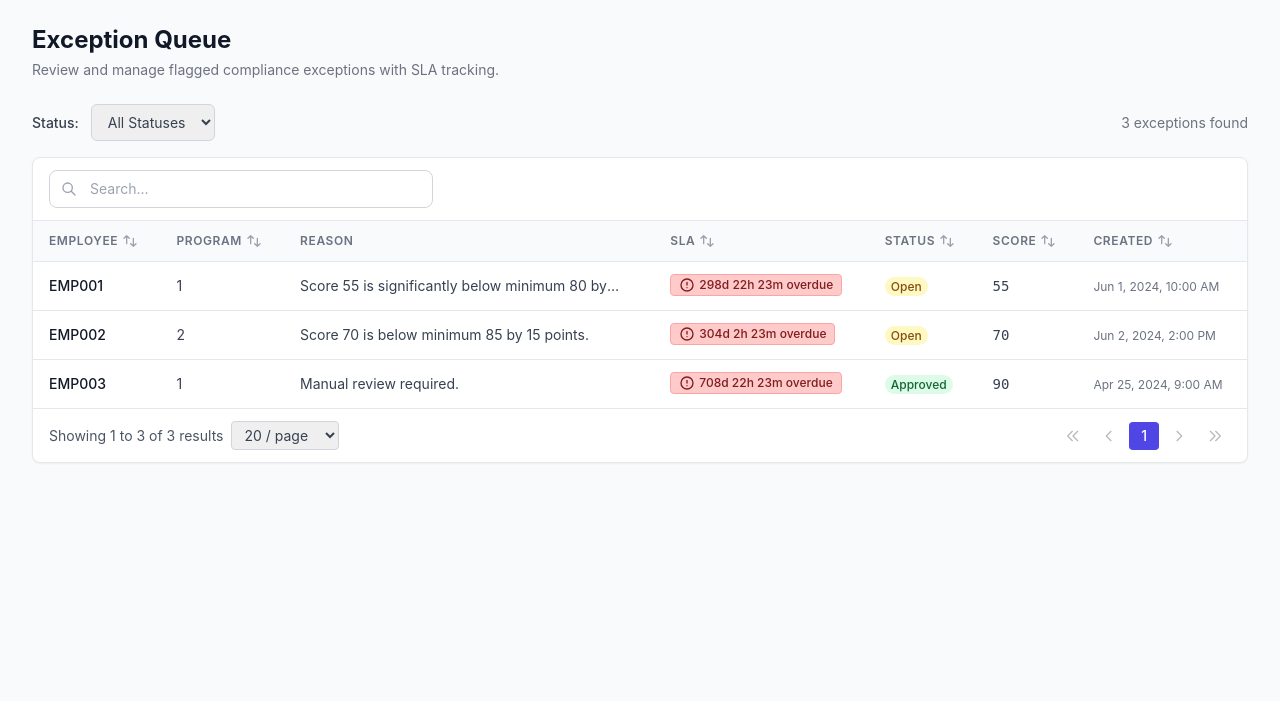
Scenario: ExceptionQueuePage › shows validation error when override is submitted without justification
Click the text "EMP001".
click(76, 286)  # box [49, 277, 103, 294]
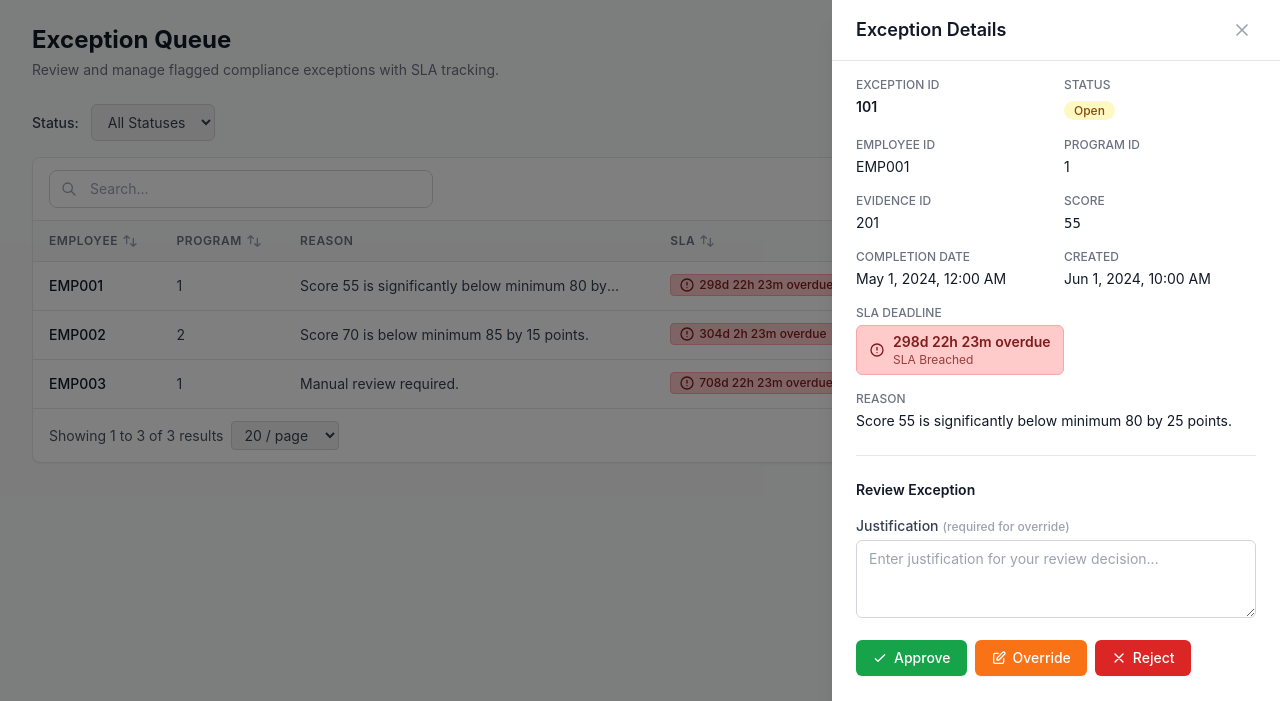
Expected: the heading "Exception Details" is shown, [856, 16, 1006, 44]
Click the button "Override".
click(1031, 658)  # box [975, 640, 1087, 676]
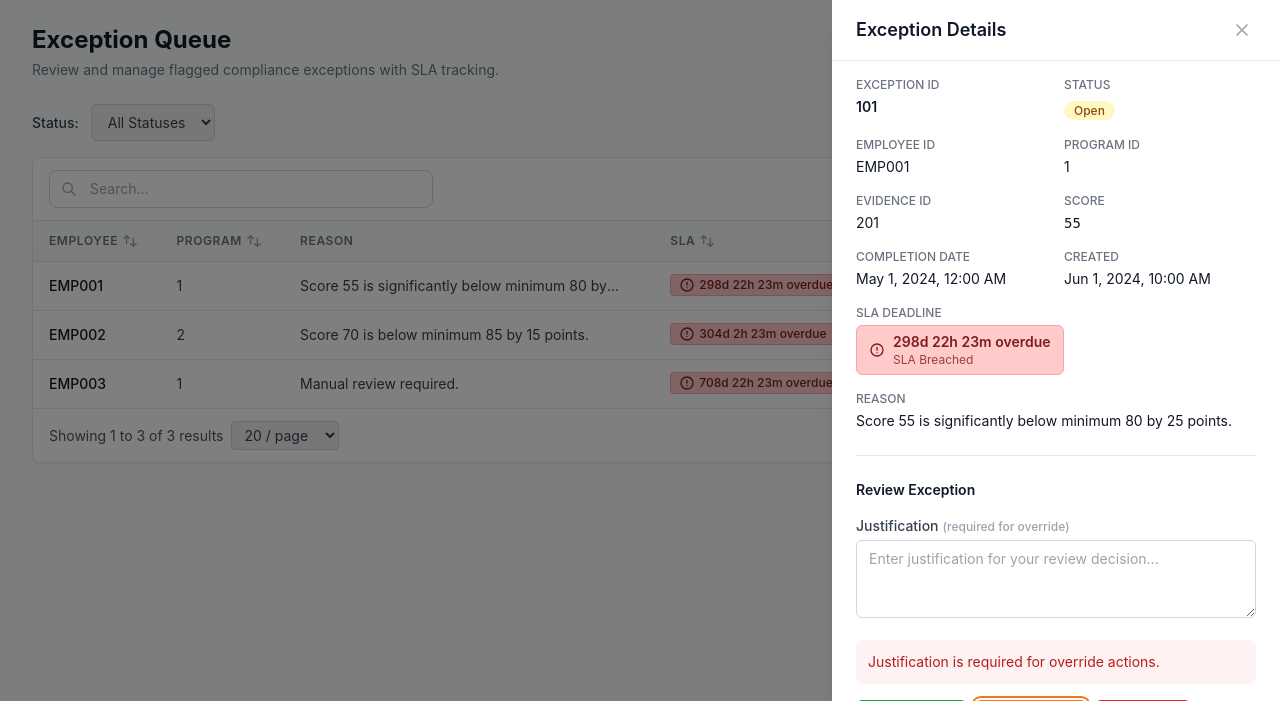
Expected: the text "Justification is required for override actions." is shown, [868, 653, 1160, 670]
